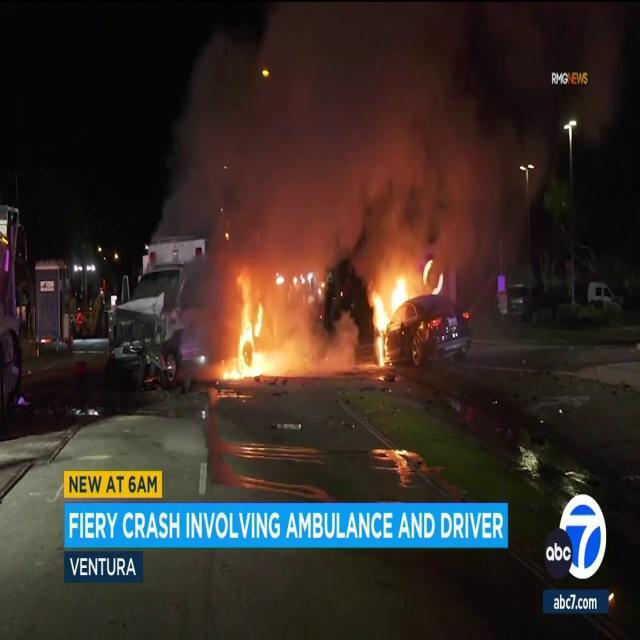Fire: (214, 276, 316, 390), (365, 255, 439, 368), (215, 276, 278, 393), (364, 258, 418, 368)
Smoke: (149, 1, 530, 267)
